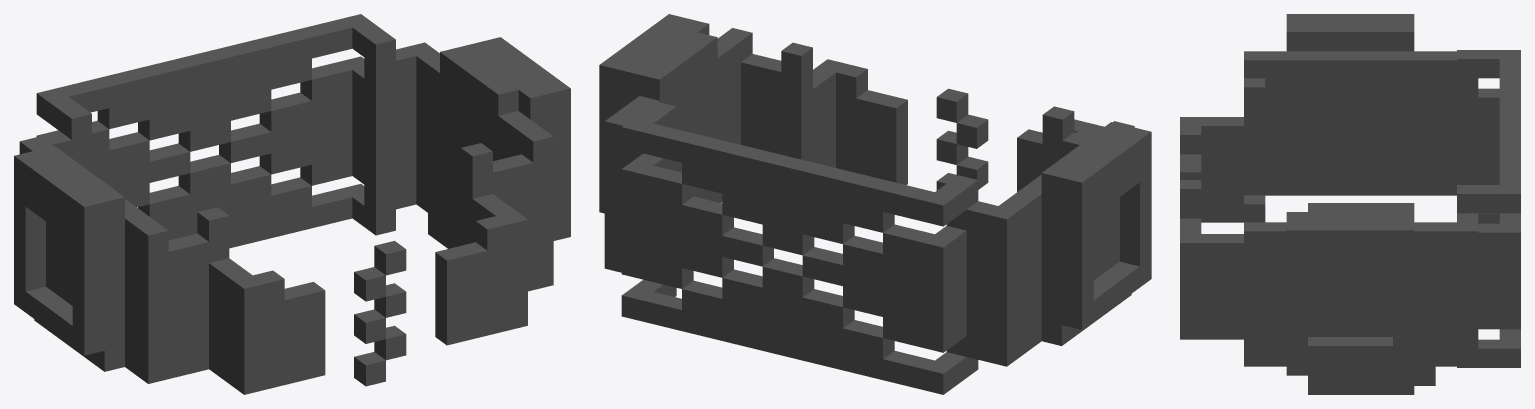
3 views of the same model, side by side, from view 1: azimuth 30°, elevation 25°; view 2: azimuth 150°, elevation 25°; view 3: azimuth 270°, elevation 25° (orthographic). The views are drawn at different scales.
Visible parts, largest first — view 1: 50; view 2: 50; view 3: 50.
Part boxes in pixels (x1,y1,x2,y2): 50: (14,14,570,394); 50: (599,14,1151,394); 50: (1180,14,1520,394).
Size of the model in its own units: 240 by 90 by 160.
Materials: 1 (1 with a texture image).
